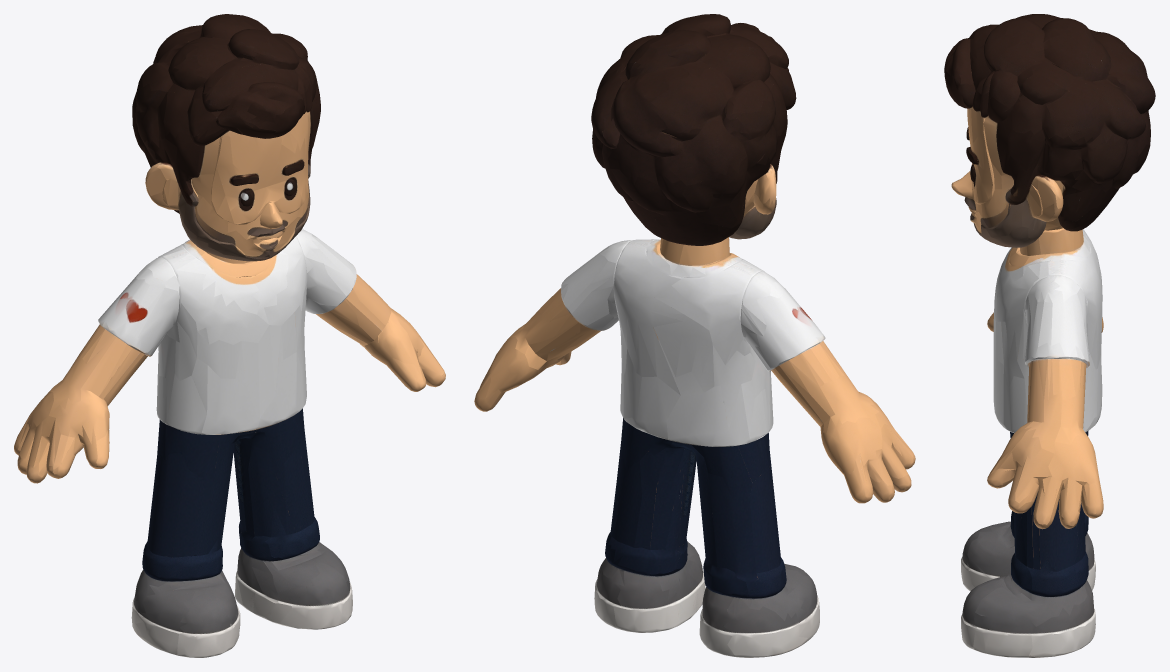
The picture shows the model from 3 angles, left to right: view 1: azimuth 30°, elevation 25°; view 2: azimuth 150°, elevation 25°; view 3: azimuth 270°, elevation 25°; orthographic projection. The views are drawn at different scales.
Bounding box in the file's own units: 1.4 × 1.9 × 0.6174.
Materials: 1 (1 with a texture image).
